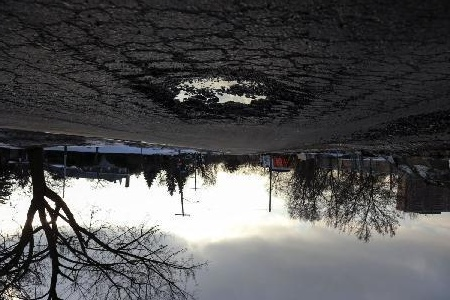pothole: (132, 67, 293, 121)
